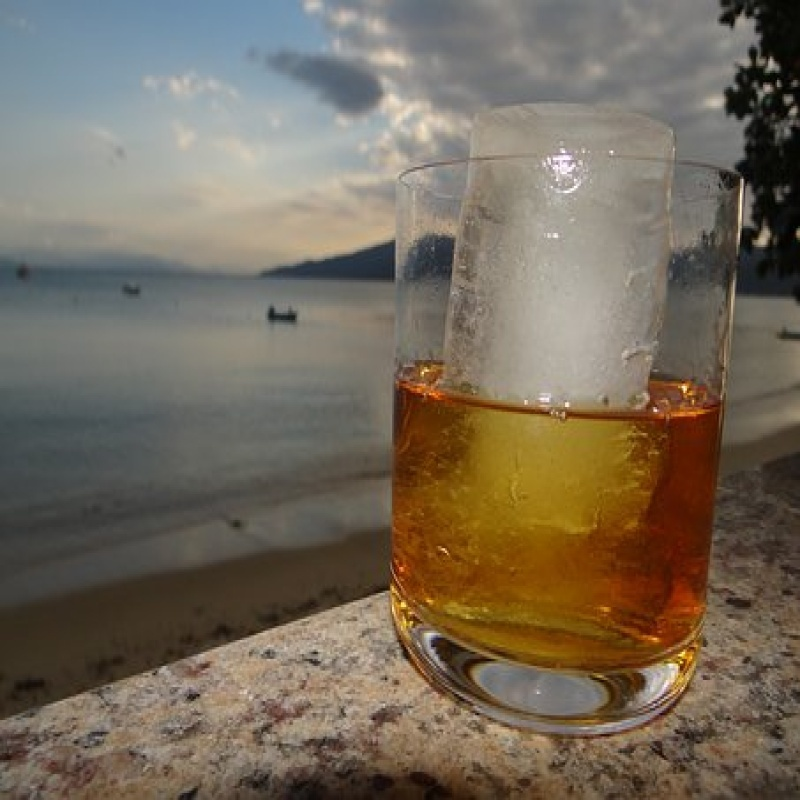whiskey: (392, 132, 727, 727)
